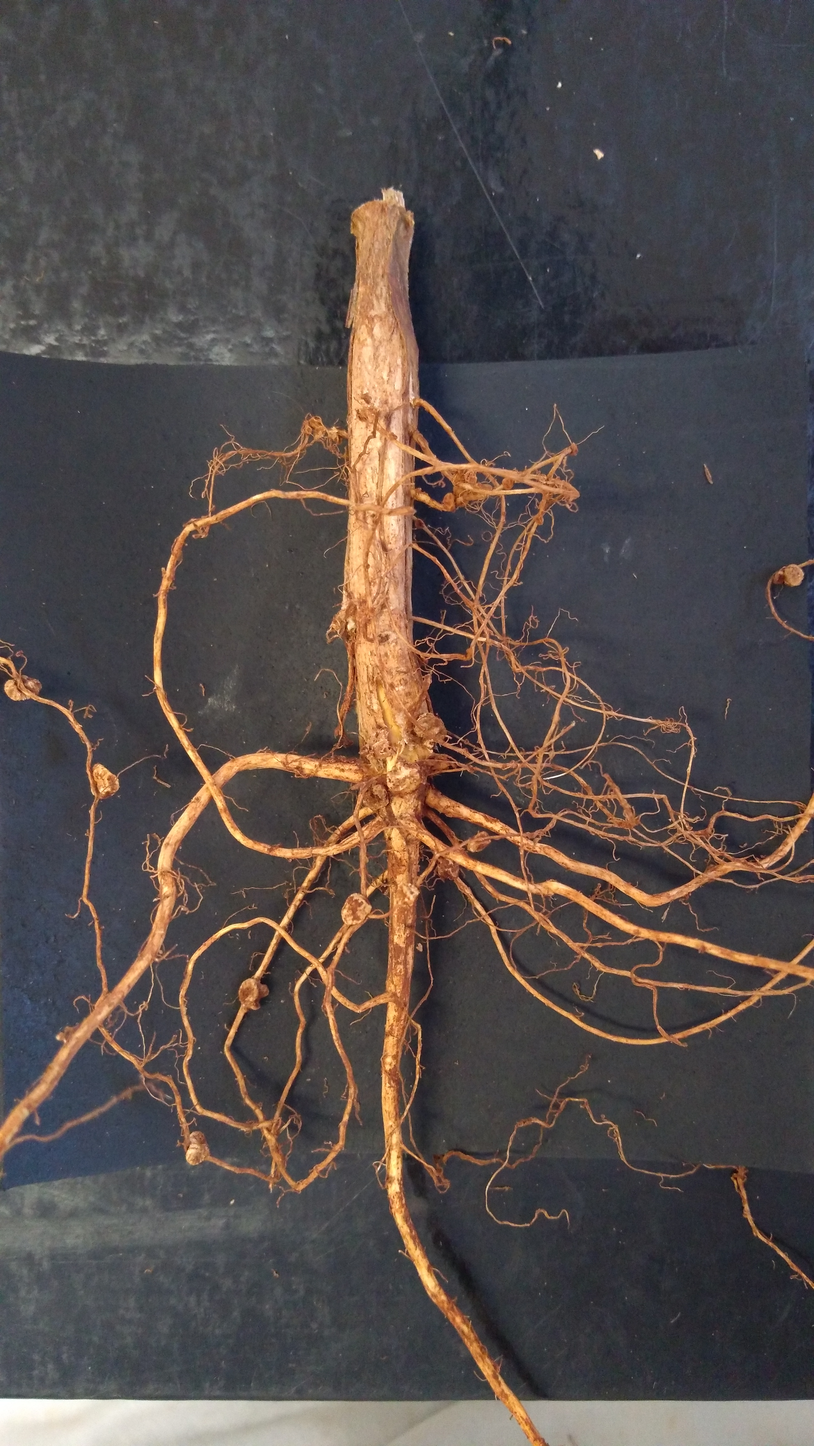nodule: (232, 972, 275, 1018), (335, 890, 374, 930), (408, 711, 451, 747), (182, 1127, 217, 1171), (359, 777, 393, 819), (385, 760, 423, 792), (89, 762, 120, 798), (433, 853, 464, 884), (461, 827, 493, 857), (326, 423, 343, 451), (439, 491, 458, 513), (500, 476, 517, 492), (306, 415, 324, 429), (463, 469, 478, 485), (568, 441, 581, 459), (535, 511, 547, 525), (481, 482, 493, 492)
